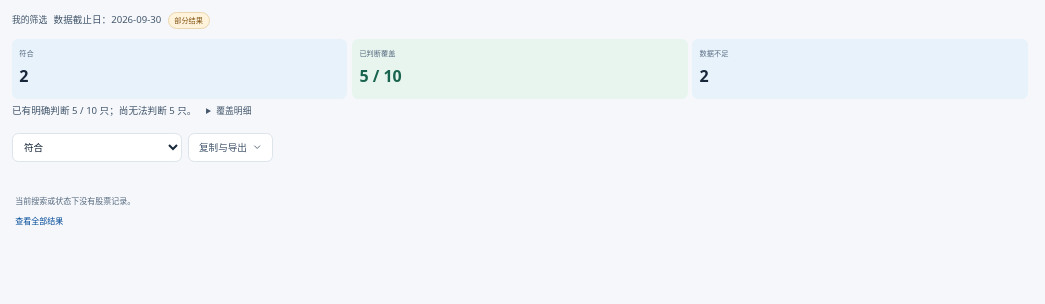
Test: defaults to matches while retaining date and accurate mixed-status coverage
Expected: the dropdown named "判断状态" shows "符合", [12,133,182,162]
Expected: the text "数据截止日：2026-09-30" is shown, [54,13,161,28]
Click the heading "覆盖明细" at (234, 111), box [216,105,251,117]
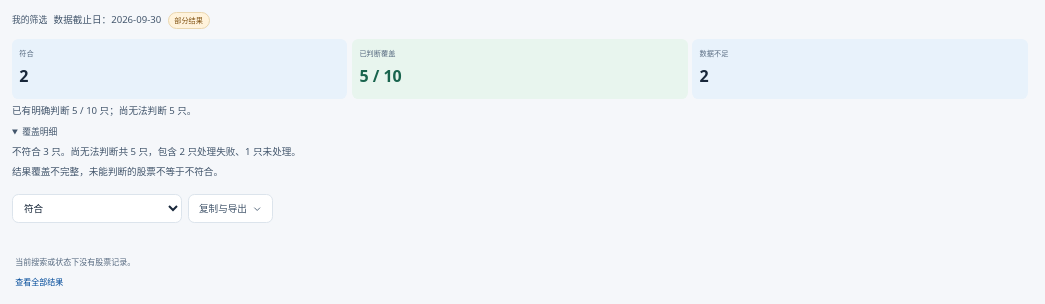
Expected: the text "不符合 3 只。尚无法判断共 5 只，包含 2 只处理失败、1 只未处理。" is shown, [12,145,301,158]
Expected: the text "结果覆盖不完整，未能判断的股票不等于不符合。" is shown, [12,166,223,178]
